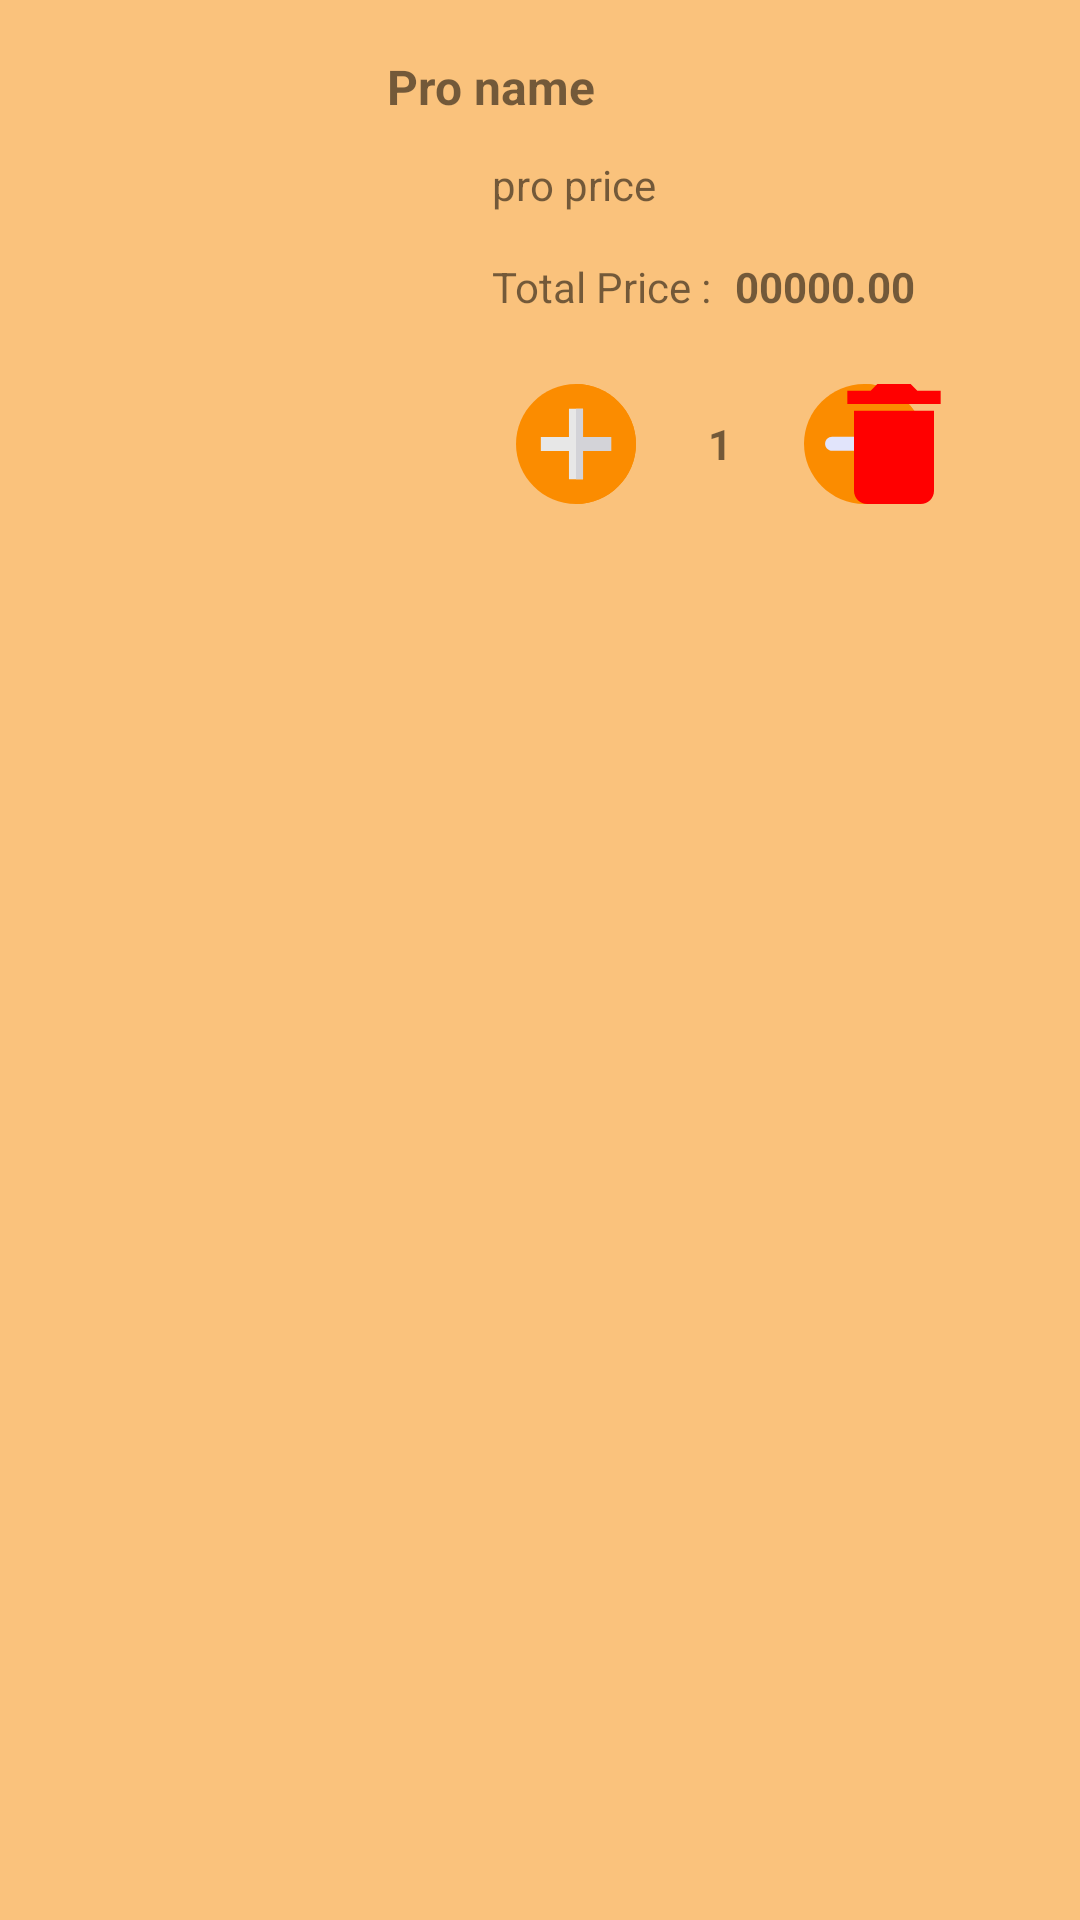

Point at icon controls on the screen. Image size 1080w x 1920h, points as (x,y).
plus: (576,444)
